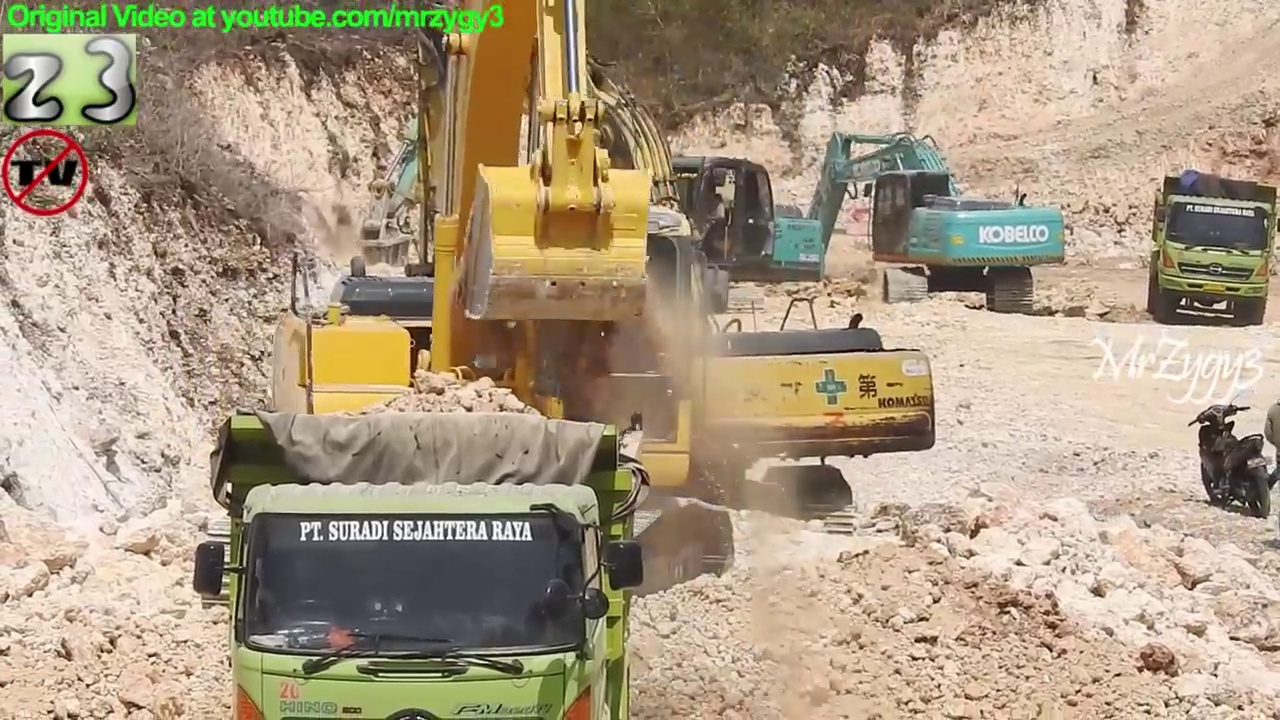excavator: (191, 1, 746, 628), (381, 1, 944, 545), (348, 34, 834, 330), (767, 123, 1074, 313)
truck: (188, 403, 652, 720), (1143, 169, 1280, 331)
